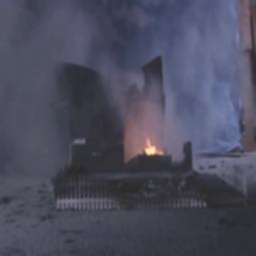fire: (133, 134, 169, 161)
smoke: (20, 6, 229, 126)
